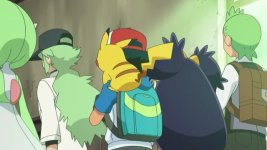gardevoir: (1, 1, 41, 149)
pikachu: (87, 26, 174, 93)
